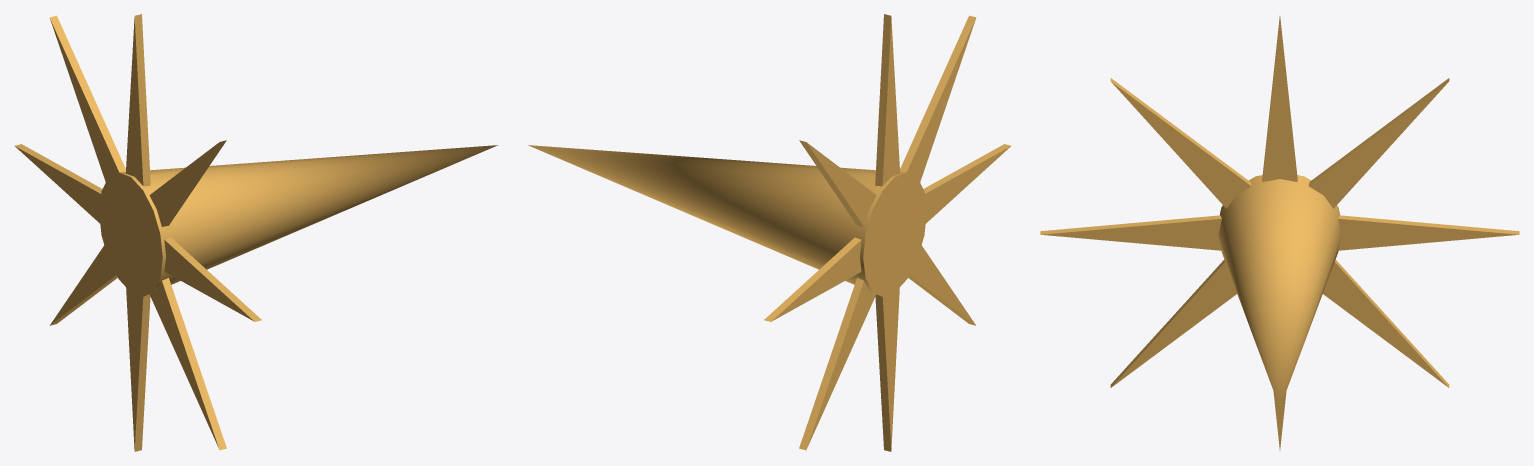
File: clarao.obj
3 renders of one model, left to right at view 1: azimuth 30°, elevation 25°; view 2: azimuth 150°, elevation 25°; view 3: azimuth 270°, elevation 25°, orthographic.
Size of the model in its own units: 0.24 by 0.272 by 0.272.
